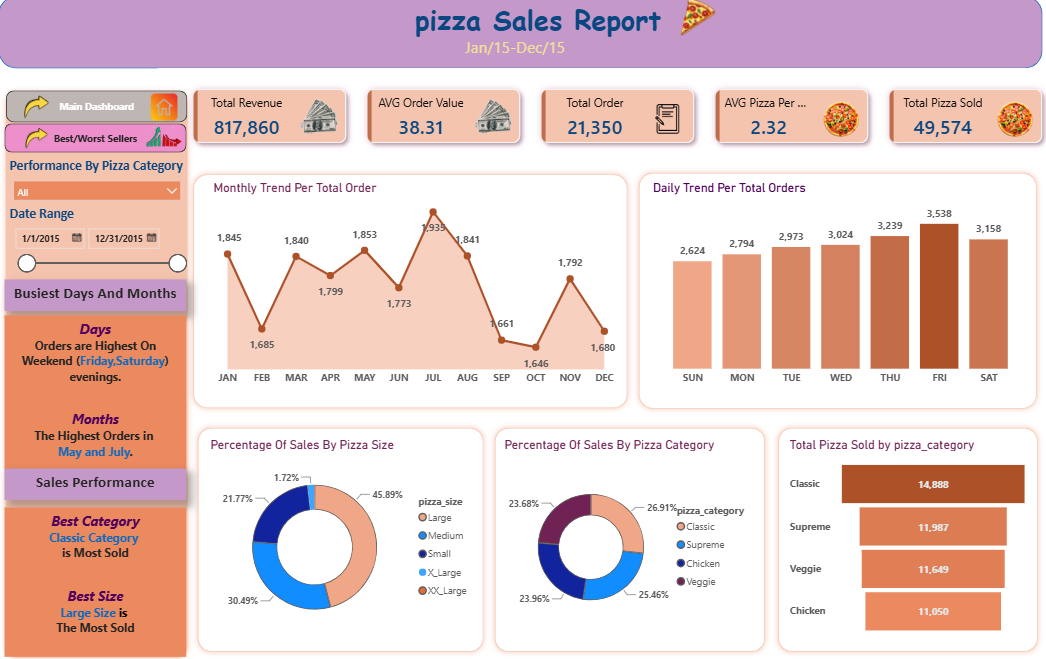

Layout of this report page (visuals, bound fields, positions):
{"tool":"powerbi","page":{"name":"Main Dashboard","canvas":[1500,920],"ordinal":0},"visuals":[{"type":"shape","box":[11.2,0,1440.1,100],"z":0},{"type":"textbox","box":[103.5,0,1262.1,86.9],"z":1000},{"type":"textbox","box":[618.6,49.7,209,80.7],"z":2000},{"type":"image","box":[908.3,0,131.1,60],"z":3000},{"type":"shape","box":[886.2,235,565,341.2],"z":4000},{"type":"shape","box":[271.2,237.5,615,338.8],"z":5000},{"type":"columnChart","title":"Daily Trend Per Total Orders","fields":{"Category":["pizza_sales.Order Day"],"Y":["pizza_sales.Total Order"]},"box":[908.8,255,527.5,291.2],"z":6000},{"type":"areaChart","title":"Monthly Trend Per Total Order","fields":{"Category":["pizza_sales.Order Month"],"Y":["pizza_sales.Total Order"]},"box":[301.2,255,567.5,291.2],"z":7000},{"type":"shape","box":[277.5,587.5,410,325],"z":8000},{"type":"shape","box":[687.5,587.5,388.8,325],"z":9000},{"type":"donutChart","title":"Percentage Of Sales By Pizza Size","fields":{"Category":["pizza_sales.pizza_size"],"Y":["pizza_sales.Total Revenue"]},"box":[298.8,607.5,376.2,283.8],"z":10000},{"type":"donutChart","title":"Percentage Of Sales By Pizza Category","fields":{"Category":["pizza_sales.pizza_category"],"Y":["pizza_sales.Total Revenue"]},"box":[703.8,607.5,356.2,283.8],"z":11000},{"type":"shape","box":[1077.5,587.5,373.8,325],"z":12000},{"type":"funnel","fields":{"Category":["pizza_sales.pizza_category"],"Y":["pizza_sales.Total Pizza Sold"]},"box":[1097.5,607.5,338.8,283.8],"z":13000},{"type":"cardVisual","fields":{"Data":["pizza_sales.Total_Revenue","pizza_sales.AVG_Order_Value","pizza_sales.Total_Order","pizza_sales.AVG_Pizza_Per_Order","pizza_sales.Total_Pizza_Sold"]},"box":[230,100,1270,132.2],"z":14000},{"type":"shape","box":[11.4,123.6,266.6,796.4],"z":15000},{"type":"textbox","box":[19.5,390.2,250.6,43.5],"z":16000},{"type":"textbox","box":[19.5,440.5,250.6,211.7],"z":17000},{"type":"textbox","box":[19.5,652.2,250.6,43.5],"z":18000},{"type":"textbox","box":[19.5,706,250.6,206],"z":19000},{"type":"slicer","title":"Performance By Pizza Category","fields":{"Values":["pizza_sales.pizza_category"]},"box":[20,222.2,251.1,65.6],"z":20000},{"type":"slicer","title":"Date Range","fields":{"Values":["pizza_sales.order_date"]},"box":[20,287.8,257.8,152.2],"z":21000},{"type":"pageNavigator","box":[21.4,130.7,250,44.3],"z":22000},{"type":"pageNavigator","box":[19,175,251,40],"z":23000},{"type":"image","box":[215.7,134.3,47.1,37.1],"z":24000},{"type":"image","box":[182.9,168.6,112.1,52.9],"z":25000},{"type":"image","box":[20,130.7,83.6,45.7],"z":26000},{"type":"image","box":[36.4,176.4,50.7,41.4],"z":27000}]}

Visuals, with their boxes in screenshot pixels (x1, y1, x2, y2), scaled from the page's 1500x920 canvas onto the 1046x659 screenshot:
shape: select_region(8, 0, 1012, 72)
textbox: select_region(72, 0, 952, 62)
textbox: select_region(431, 36, 577, 93)
image: select_region(633, 0, 725, 43)
shape: select_region(618, 168, 1012, 413)
shape: select_region(189, 170, 618, 413)
"Daily Trend Per Total Orders" columnChart: select_region(634, 183, 1002, 391)
"Monthly Trend Per Total Order" areaChart: select_region(210, 183, 606, 391)
shape: select_region(194, 421, 479, 654)
shape: select_region(479, 421, 751, 654)
"Percentage Of Sales By Pizza Size" donutChart: select_region(208, 435, 471, 638)
"Percentage Of Sales By Pizza Category" donutChart: select_region(491, 435, 739, 638)
shape: select_region(751, 421, 1012, 654)
funnel - pizza_sales.pizza_category x pizza_sales.Total Pizza Sold: select_region(765, 435, 1002, 638)
cardVisual - pizza_sales.Total_Revenue x pizza_sales.AVG_Order_Value: select_region(160, 72, 1045, 166)
shape: select_region(8, 89, 194, 658)
textbox: select_region(14, 280, 188, 311)
textbox: select_region(14, 316, 188, 467)
textbox: select_region(14, 467, 188, 498)
textbox: select_region(14, 506, 188, 653)
"Performance By Pizza Category" slicer: select_region(14, 159, 189, 206)
"Date Range" slicer: select_region(14, 206, 194, 315)
pageNavigator: select_region(15, 94, 189, 125)
pageNavigator: select_region(13, 125, 188, 154)
image: select_region(150, 96, 183, 123)
image: select_region(128, 121, 206, 159)
image: select_region(14, 94, 72, 126)
image: select_region(25, 126, 61, 156)
